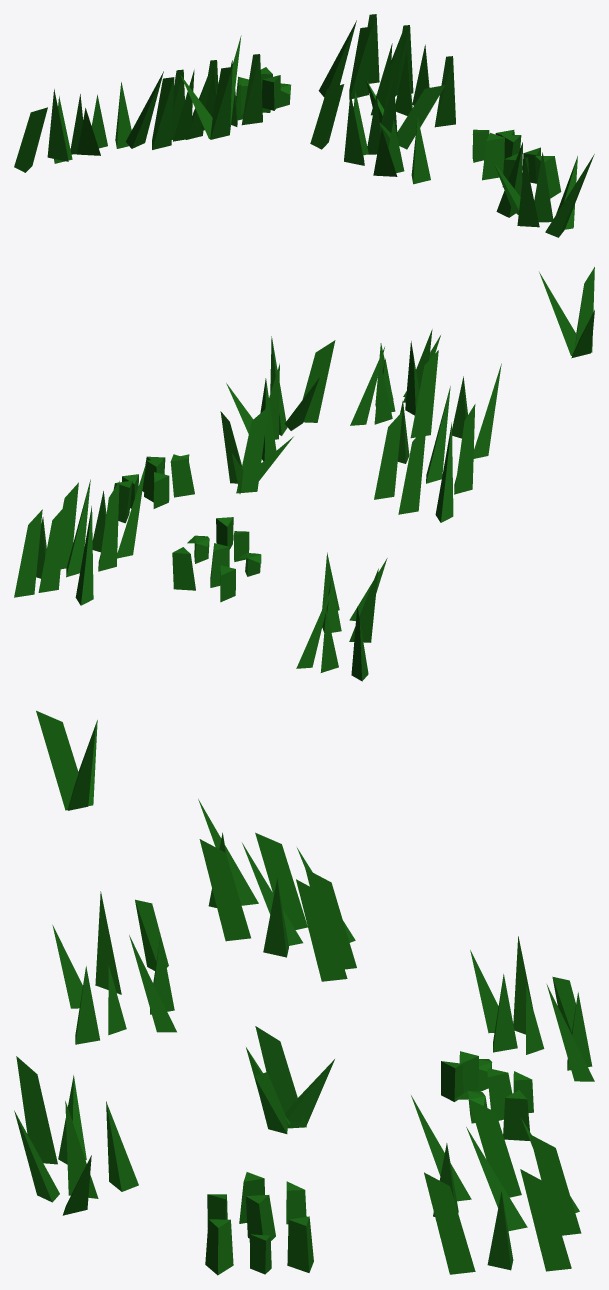
File: GrassCornerUpWards.obj
The picture shows the model from 3 angles, top to bottom: view 1: azimuth 30°, elevation 25°; view 2: azimuth 150°, elevation 25°; view 3: azimuth 270°, elevation 25°; orthographic projection. The views are drawn at different scales.
Parts seen in each view (by area): view 1: GrassBunch1.002_Circle.001; view 2: GrassBunch1.002_Circle.001; view 3: GrassBunch1.002_Circle.001.
Part boxes in pixels (box(x1,y1,x2,y2)): GrassBunch1.002_Circle.001: box(14, 14, 594, 237); GrassBunch1.002_Circle.001: box(14, 267, 594, 681); GrassBunch1.002_Circle.001: box(14, 710, 594, 1275).
Bounding box in the file's own units: 0.8568 × 0.548 × 0.8448.
